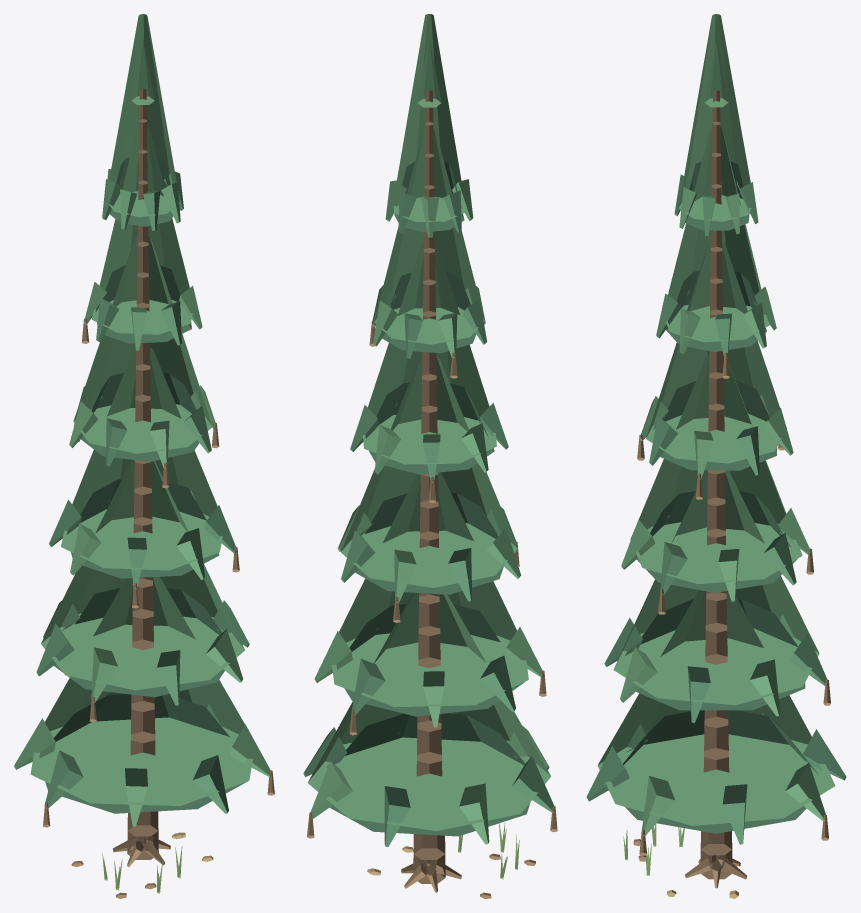
File: tree_spruce.glb
The picture shows the model from 3 angles, left to right: view 1: azimuth 30°, elevation 25°; view 2: azimuth 150°, elevation 25°; view 3: azimuth 270°, elevation 25°; orthographic projection. The views are drawn at different scales.
Visible parts, largest first — view 1: Tier#2, Tier#4, Tier#6, Tier#8, Tier#10, Tier#12, Tier, Tier#3, Tier#5, Tier#7, Tier#9, Tip#2 (+28 smaller); view 2: Tier#2, Tier#4, Tier#6, Tier#8, Tier#10, Tier#12, Tier, Tier#3, Tier#5, Tier#7, Tier#9, Tip#5 (+29 smaller); view 3: Tier#2, Tier#4, Tier#6, Tier#8, Tier#10, Tier#12, Tier, Tier#3, Tier#5, Tier#7, Tier#9, Tip#7 (+29 smaller).
Part boxes in pixels (x1,y1,x2,y2): Tier#2: [30, 576, 252, 805]; Tier#4: [41, 460, 244, 690]; Tier#6: [61, 347, 222, 570]; Tier#8: [73, 236, 212, 453]; Tier#10: [91, 125, 192, 334]; Tier#12: [109, 14, 180, 217]; Tier: [45, 694, 247, 813]; Tier#3: [54, 588, 224, 697]; Tier#5: [71, 479, 219, 578]; Tier#7: [81, 372, 199, 461]; Tier#9: [97, 265, 190, 343]; Tip#2: [192, 755, 228, 813]; Tier#2: [308, 592, 550, 830]; Tier#4: [332, 472, 528, 707]; Tier#6: [341, 356, 517, 587]; Tier#8: [362, 242, 496, 464]; Tier#10: [374, 128, 484, 344]; Tier#12: [393, 14, 465, 221]; Tier: [329, 713, 530, 836]; Tier#3: [344, 604, 524, 716]; Tier#5: [355, 492, 503, 594]; Tier#7: [369, 382, 494, 474]; Tier#9: [382, 271, 476, 353]; Tip#5: [459, 783, 489, 844]; Tier#2: [597, 590, 835, 825]; Tier#4: [613, 470, 819, 705]; Tier#6: [630, 355, 802, 584]; Tier#8: [646, 241, 786, 463]; Tier#10: [666, 128, 769, 342]; Tier#12: [678, 14, 751, 221]; Tier: [623, 710, 818, 833]; Tier#3: [636, 599, 805, 710]; Tier#5: [637, 491, 797, 592]; Tier#7: [660, 380, 777, 470]; Tier#9: [666, 270, 766, 351]; Tip#7: [785, 763, 825, 821].
Bounding box in the file's own units: 5 × 18.04 × 4.95.
